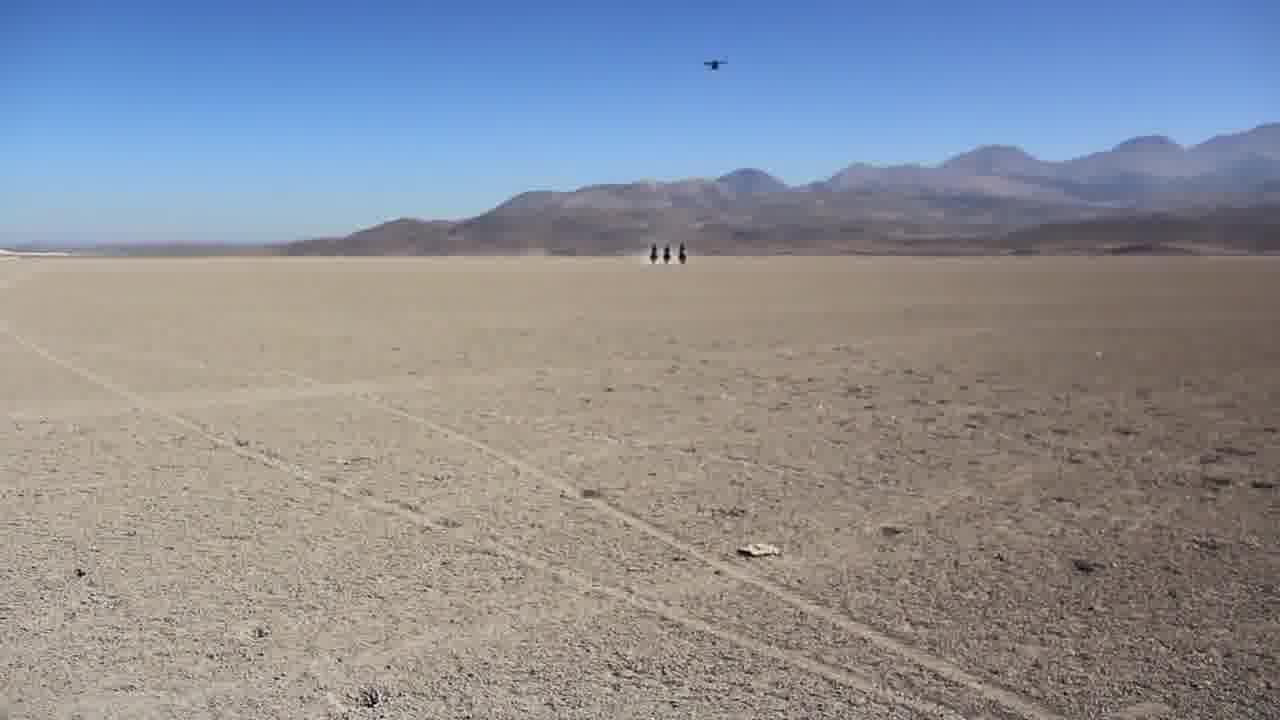drone: (697, 53, 730, 80)
